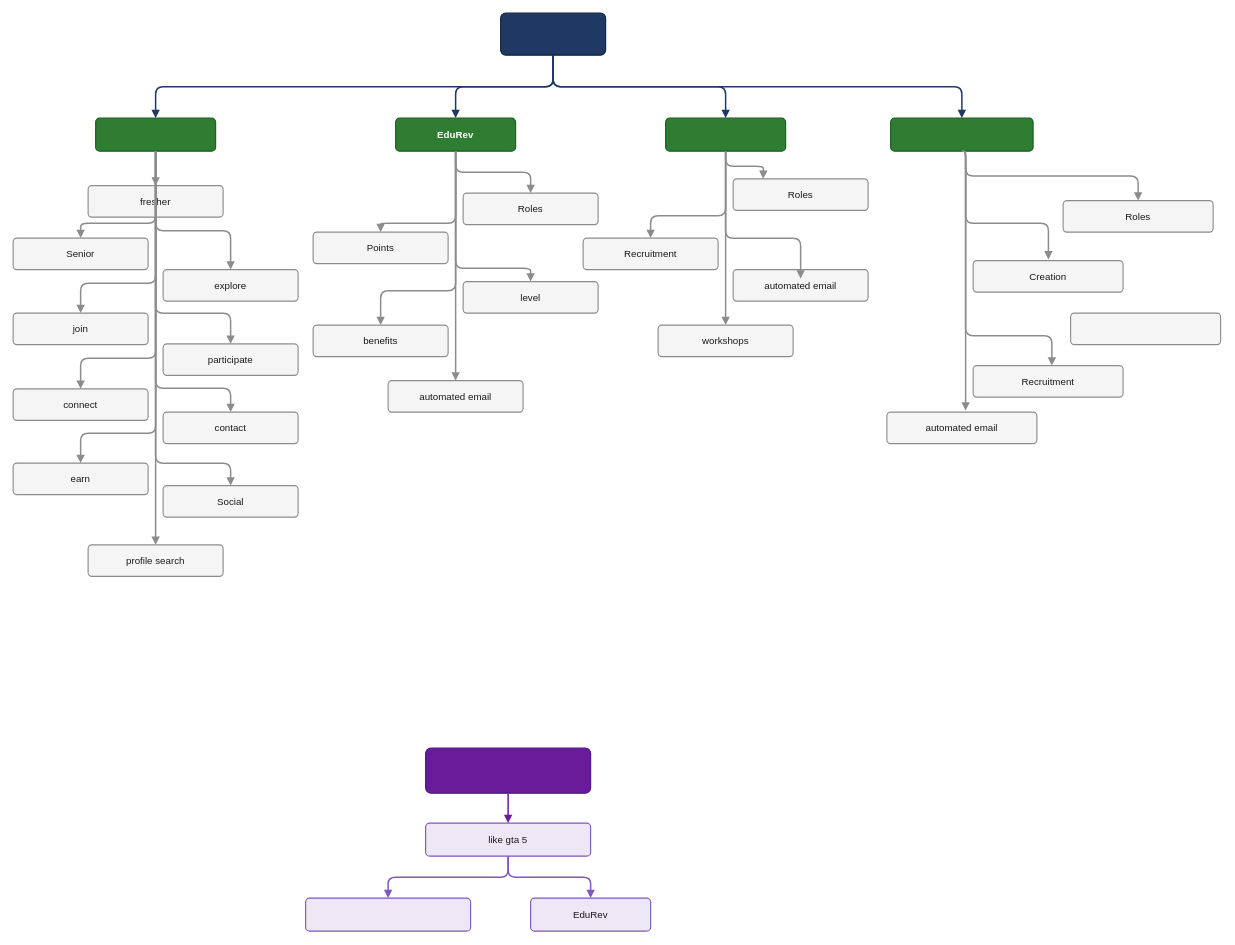
This 1235x945 diagram has some shape labels left out. Each missing label, with the box of its shape:
Clubs: (665, 117, 786, 151)
Community Leads: (890, 117, 1033, 151)
Map-exploration: (425, 747, 591, 793)
Post: (1070, 312, 1221, 345)
Student: (95, 117, 216, 151)
User: (500, 12, 606, 55)
want to explore things: (305, 897, 471, 931)
